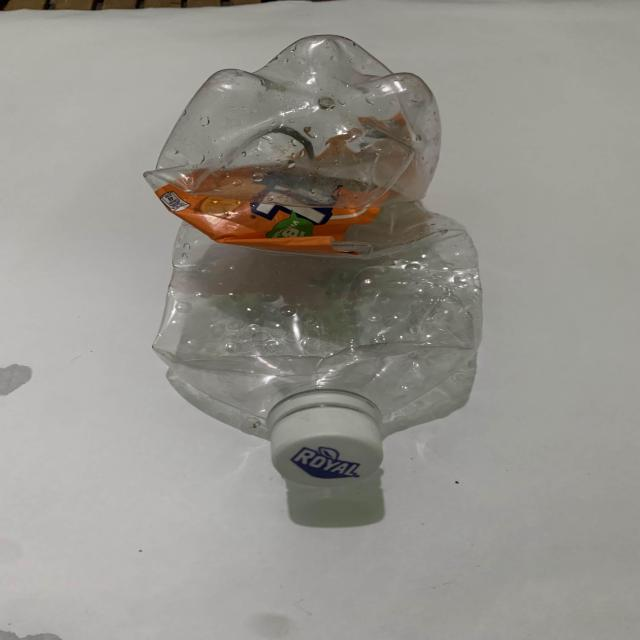bottle: (133, 27, 495, 485)
